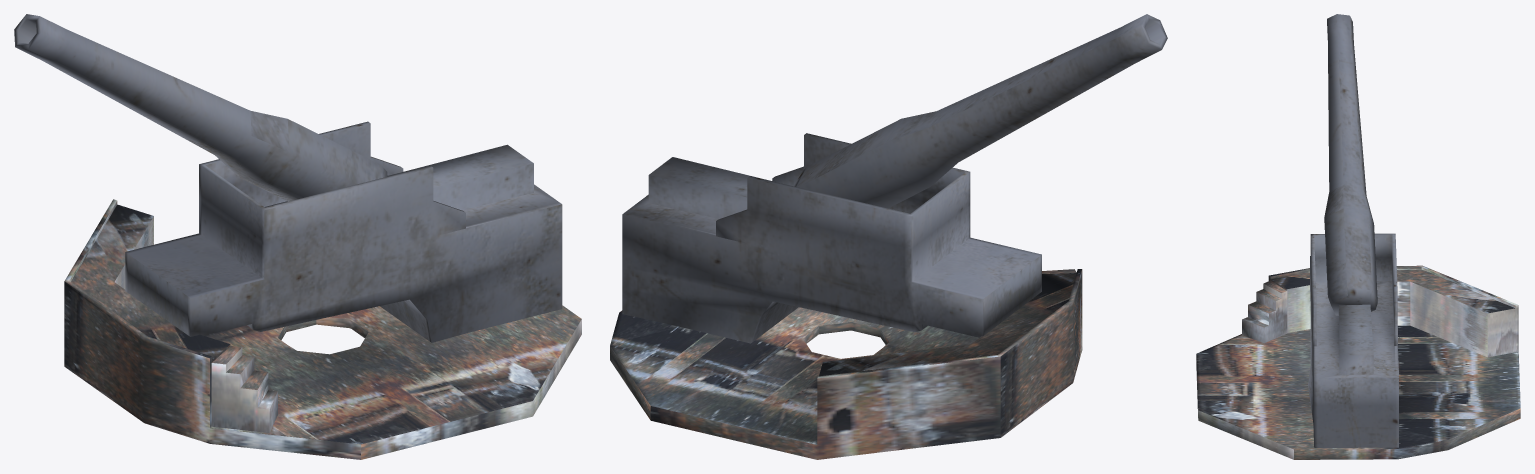
File: Canhao.fbx
The picture shows the model from 3 angles, left to right: view 1: azimuth 30°, elevation 25°; view 2: azimuth 150°, elevation 25°; view 3: azimuth 270°, elevation 25°; orthographic projection. The views are drawn at different scales.
Parts seen in each view (by area): view 1: Canhao1, BaseCanhao; view 2: Canhao1, BaseCanhao; view 3: BaseCanhao, Canhao1.
Part boxes in pixels (<box>): Canhao1: <box>14,14,562,342</box>; BaseCanhao: <box>64,199,581,459</box>; Canhao1: <box>622,14,1167,343</box>; BaseCanhao: <box>610,269,1082,459</box>; BaseCanhao: <box>1196,265,1520,459</box>; Canhao1: <box>1308,14,1398,447</box>.
Size of the model in its own units: 1563 by 1241 by 1181.
